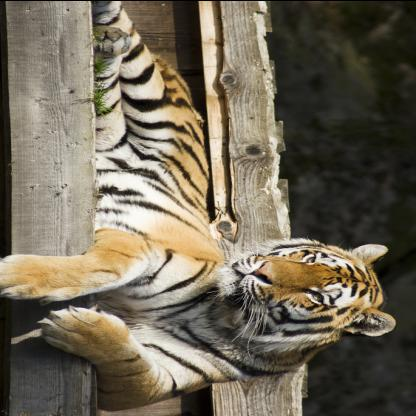tiger: (226, 235, 396, 345)
